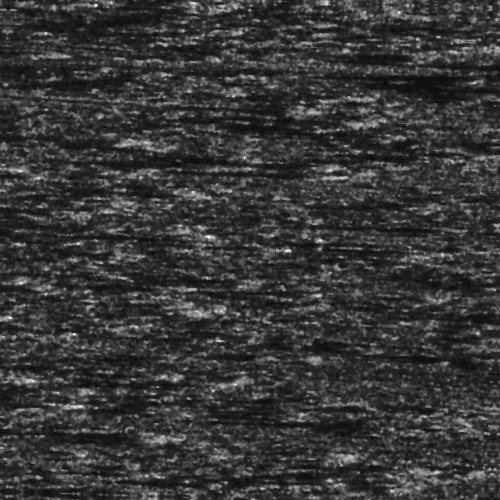object: (289, 154, 382, 167), (7, 54, 112, 63), (174, 431, 227, 444), (289, 167, 362, 176), (1, 289, 64, 294), (34, 381, 75, 388), (255, 244, 308, 249), (294, 105, 335, 110), (55, 406, 86, 411), (385, 417, 406, 422), (87, 276, 118, 279)
shadow: (105, 154, 335, 167), (85, 431, 200, 444), (404, 302, 500, 317), (178, 417, 395, 422), (211, 167, 325, 176), (141, 105, 314, 110), (70, 285, 189, 290), (165, 244, 281, 249), (0, 54, 60, 63), (0, 381, 55, 388), (0, 406, 70, 411), (0, 276, 102, 279), (0, 289, 32, 294)
